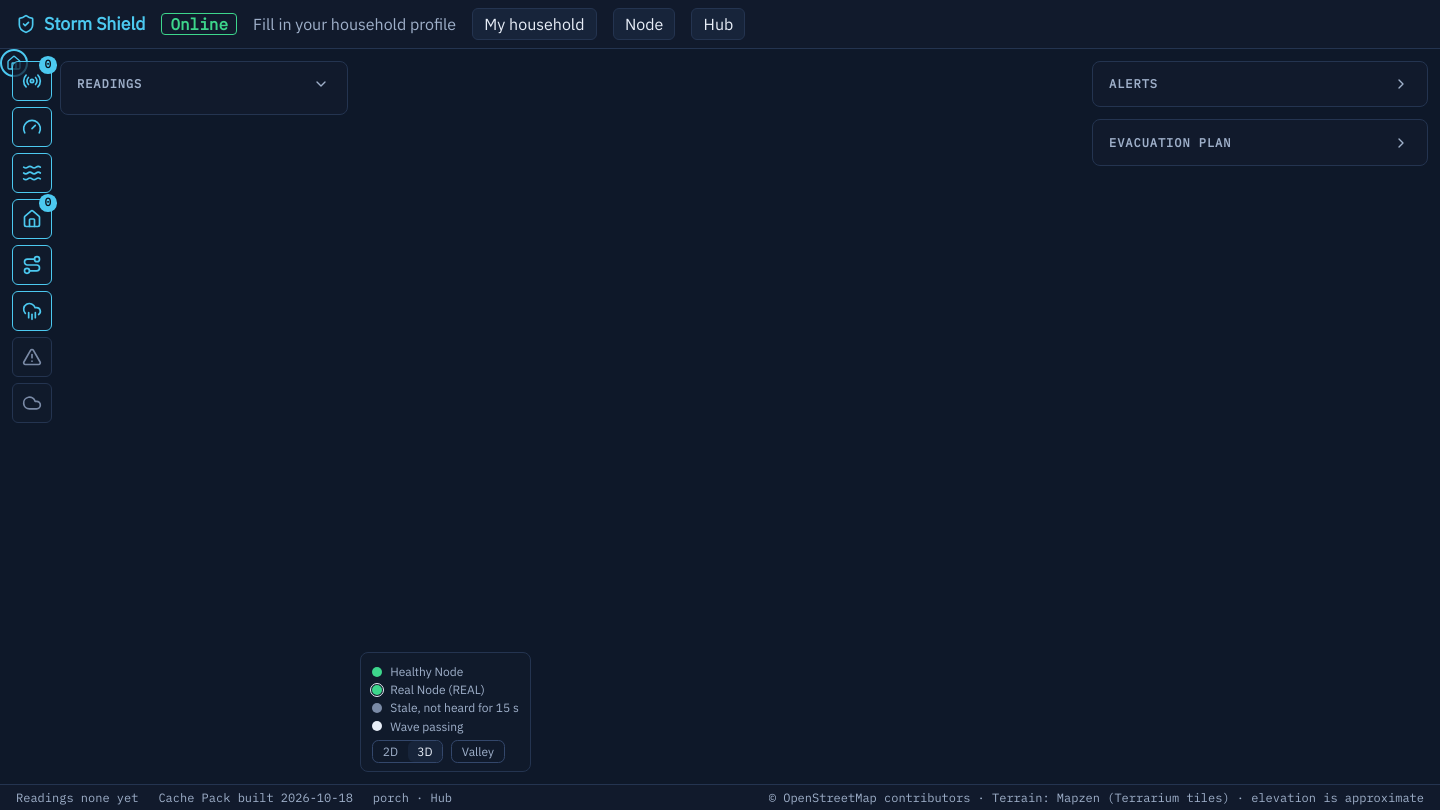
Scenario: Weather layers on the map › with no Replay running › tags a forecast fetched 1 h ago
Click the button named "Weather": (32, 403) [12,383,52,423]
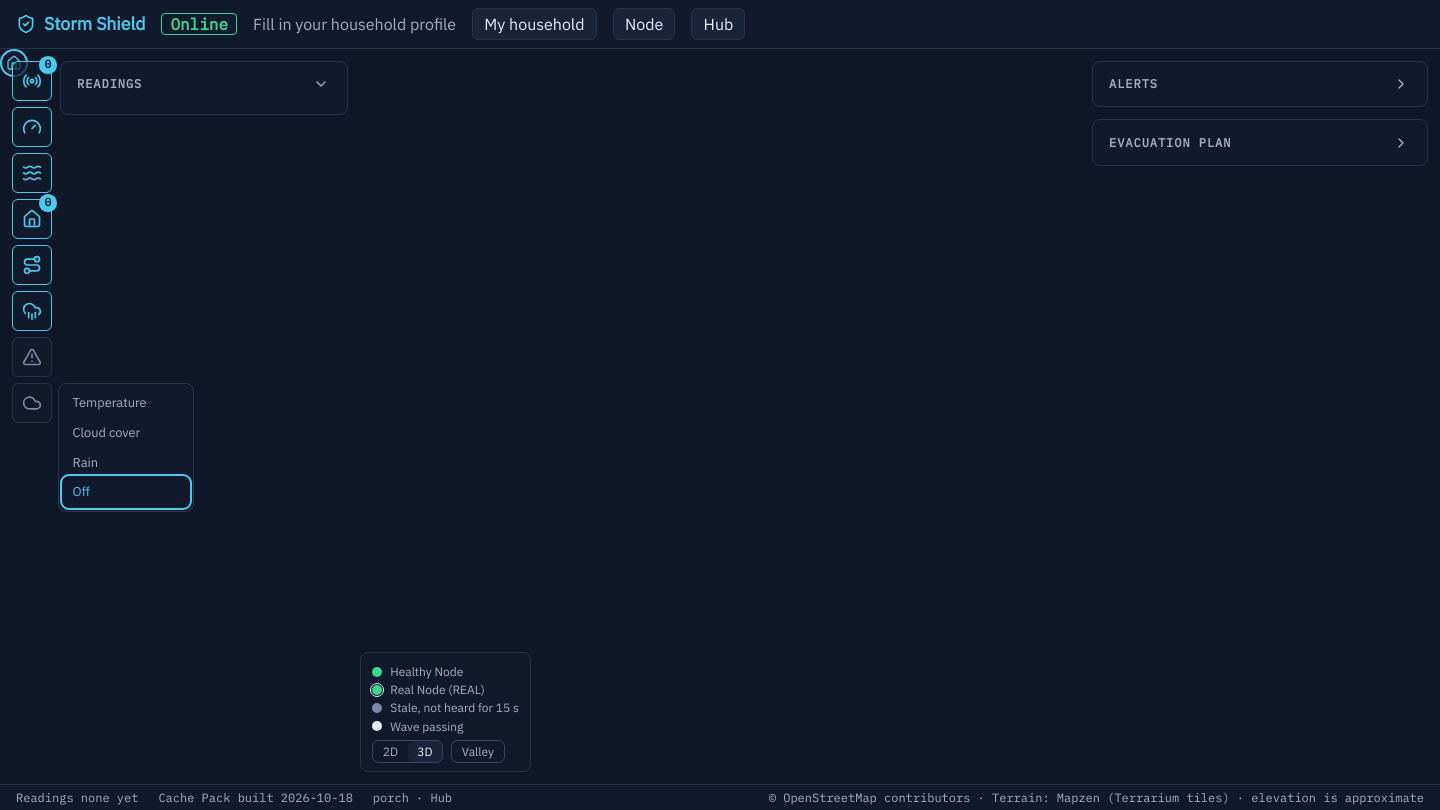
Click the radio button labelled "Rain": (126, 462) [63,447,189,477]
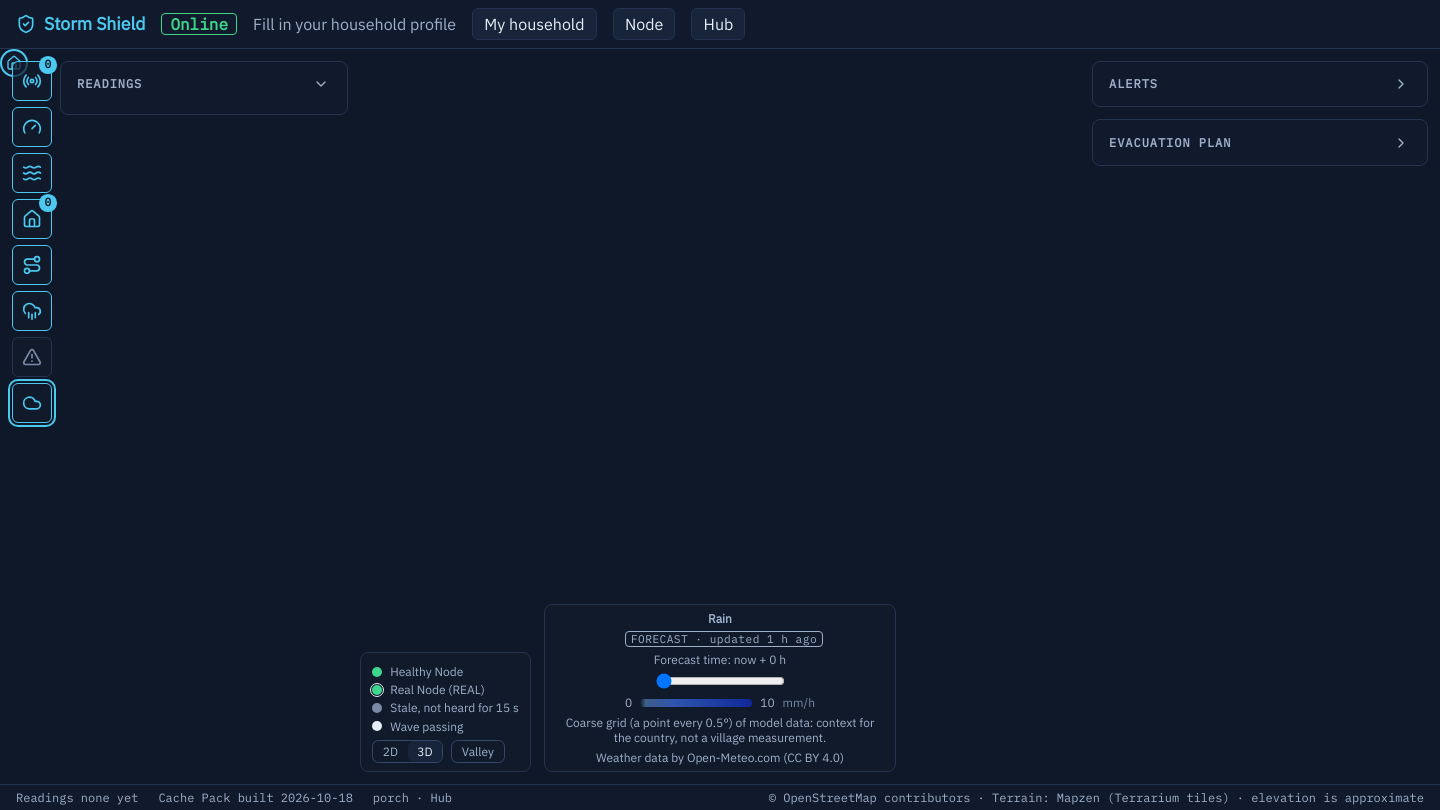
Check: the text "FORECAST · updated 1 h ago" is shown, box [625,631,823,647]
